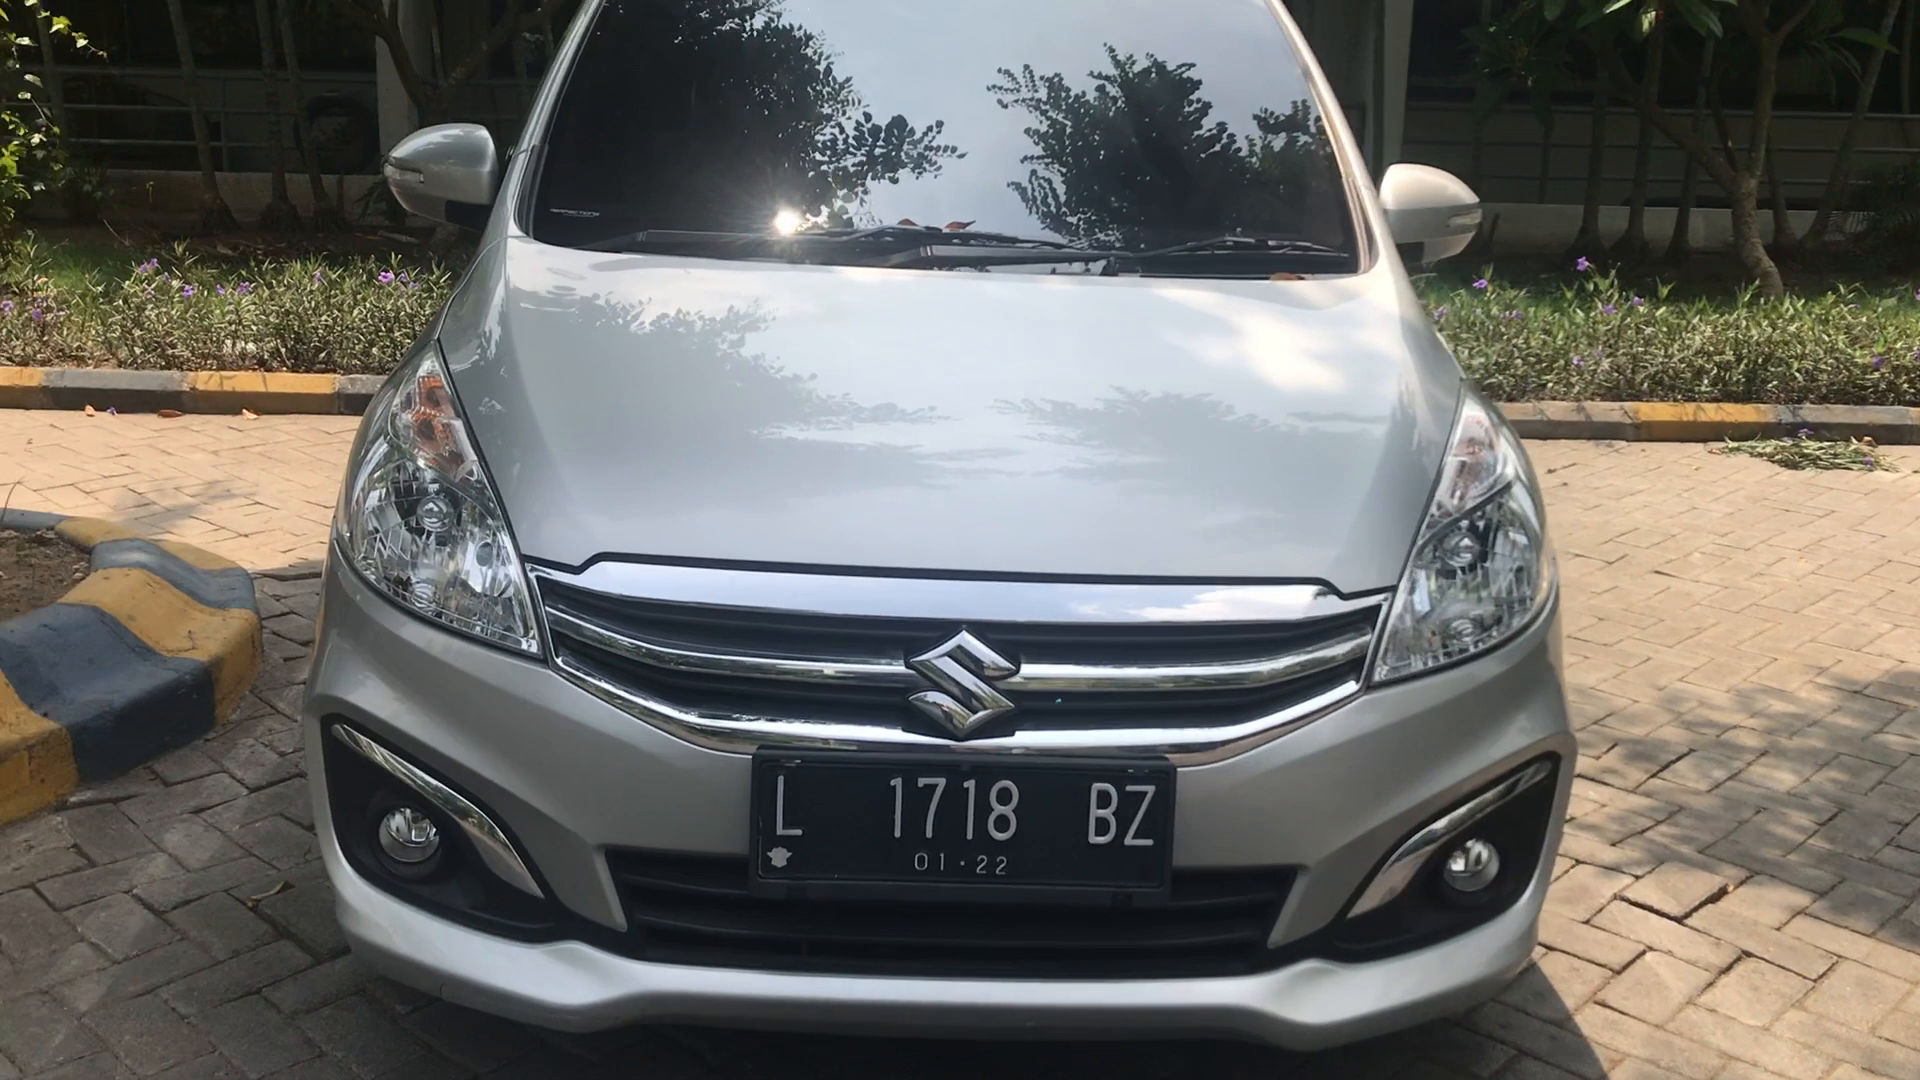plate: (755, 747, 1177, 900)
